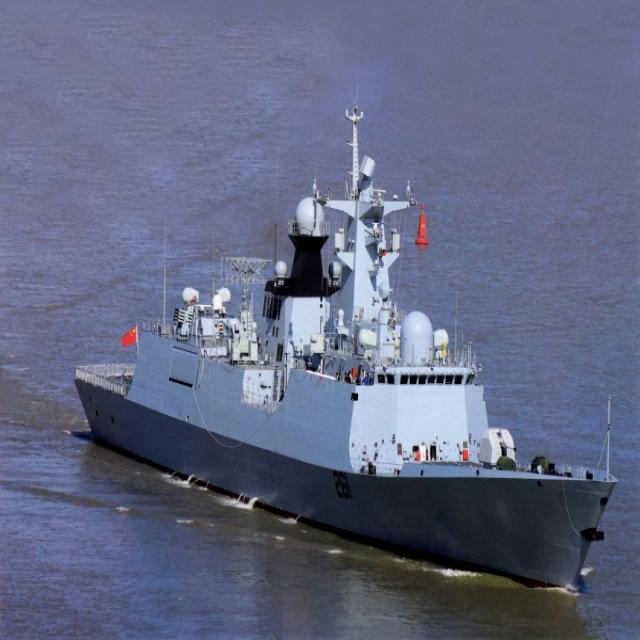Frigate-Tughril-Class-PAK: (71, 59, 620, 594)
